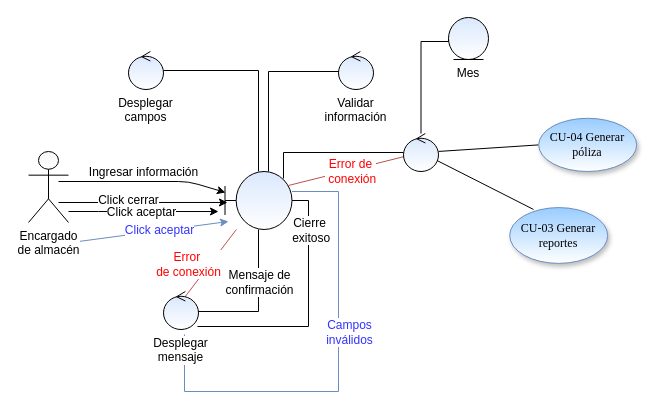
Some shapes in this 660 by 410 pixel diagram are drawn without their labels. The centre of each missing label's shape, as x and y in pixels:
"Cerrar mes" belongs at [258,200].
"Realizar operaciones" belongs at [420,152].
